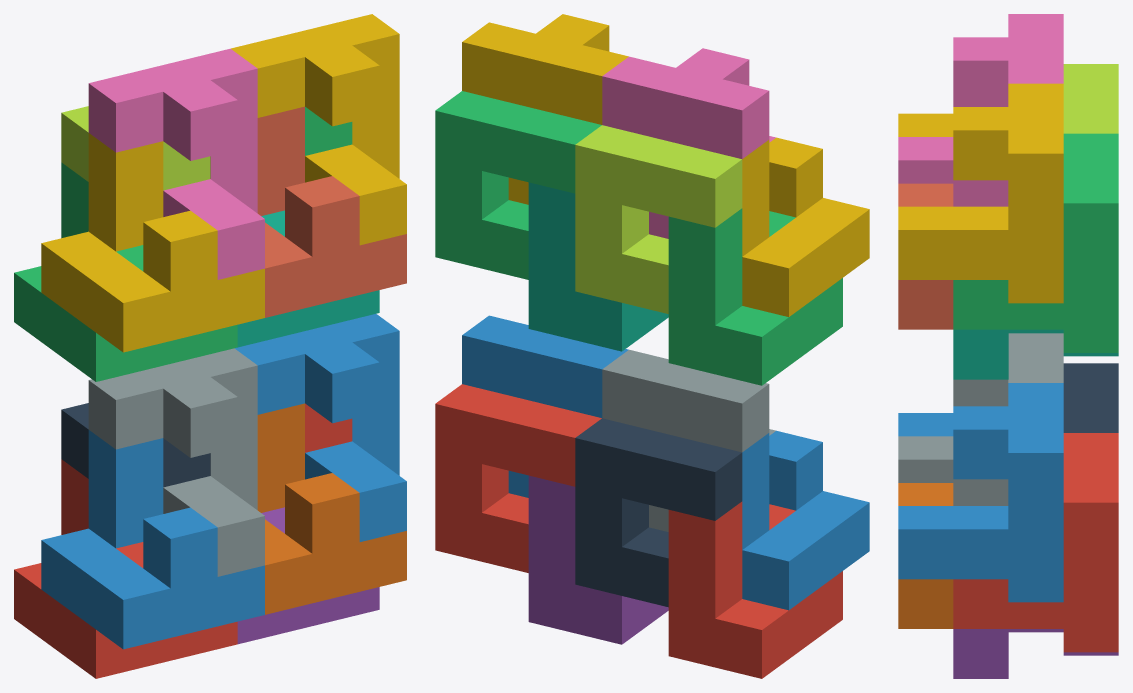
Rendered from tiling.obj.
3 renders of one model, left to right at view 1: azimuth 30°, elevation 25°; view 2: azimuth 150°, elevation 25°; view 3: azimuth 270°, elevation 25°, orthographic. The views are drawn at different scales.
Visible parts, largest first — view 1: copy_1_domain_2, copy_1_domain_4, copy_2_domain_4, copy_2_domain_2, copy_2_domain_8, copy_2_domain_6, copy_1_domain_8, copy_1_domain_6, copy_1_domain_1, copy_1_domain_3, copy_1_domain_5, copy_1_domain_7 (+4 smaller); view 2: copy_2_domain_1, copy_2_domain_3, copy_2_domain_5, copy_2_domain_7, copy_1_domain_1, copy_1_domain_3, copy_1_domain_2, copy_1_domain_4, copy_2_domain_4, copy_2_domain_8, copy_2_domain_2, copy_2_domain_6 (+2 smaller); view 3: copy_2_domain_8, copy_2_domain_6, copy_2_domain_5, copy_2_domain_7, copy_2_domain_4, copy_2_domain_2, copy_1_domain_8, copy_1_domain_6, copy_2_domain_1, copy_2_domain_3, copy_1_domain_7, copy_1_domain_5 (+2 smaller).
Part boxes in pixels (x1,y1,x2,y2): copy_1_domain_2: (41, 430, 264, 649); copy_1_domain_4: (41, 133, 264, 352); copy_2_domain_4: (88, 48, 264, 279); copy_2_domain_2: (88, 348, 264, 576); copy_2_domain_8: (231, 14, 406, 245); copy_2_domain_6: (235, 314, 406, 541); copy_1_domain_8: (257, 106, 406, 317); copy_1_domain_6: (257, 403, 406, 614); copy_1_domain_1: (14, 459, 237, 678); copy_1_domain_3: (14, 162, 237, 381); copy_1_domain_5: (237, 507, 379, 644); copy_1_domain_7: (237, 210, 379, 347); copy_2_domain_1: (575, 418, 742, 607); copy_2_domain_3: (575, 125, 742, 313); copy_2_domain_5: (435, 384, 601, 572); copy_2_domain_7: (435, 91, 601, 279); copy_1_domain_1: (668, 501, 842, 678); copy_1_domain_3: (668, 208, 842, 385); copy_1_domain_2: (742, 430, 869, 610); copy_1_domain_4: (742, 137, 869, 316); copy_2_domain_4: (602, 48, 775, 238); copy_2_domain_8: (462, 14, 628, 204); copy_2_domain_2: (602, 349, 775, 531); copy_2_domain_6: (462, 315, 628, 497); copy_2_domain_8: (898, 83, 1063, 303); copy_2_domain_6: (898, 383, 1063, 602); copy_2_domain_5: (953, 433, 1118, 652); copy_2_domain_7: (953, 133, 1118, 352); copy_2_domain_4: (898, 14, 1063, 206); copy_2_domain_2: (898, 333, 1063, 505); copy_1_domain_8: (898, 183, 953, 329); copy_1_domain_6: (898, 483, 953, 628); copy_2_domain_1: (1063, 363, 1118, 432); copy_2_domain_3: (1063, 64, 1118, 133); copy_1_domain_7: (953, 329, 1118, 379); copy_1_domain_5: (953, 629, 1118, 678).
Bounding box in the file's own units: 7 × 11 × 4.
